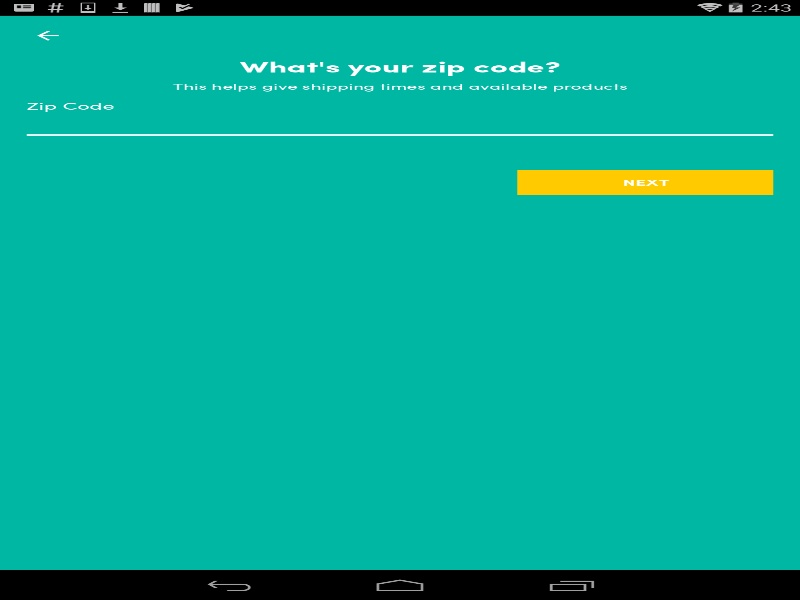Button: (512, 167, 778, 197), (10, 15, 85, 55)
Input: (21, 109, 778, 140)
